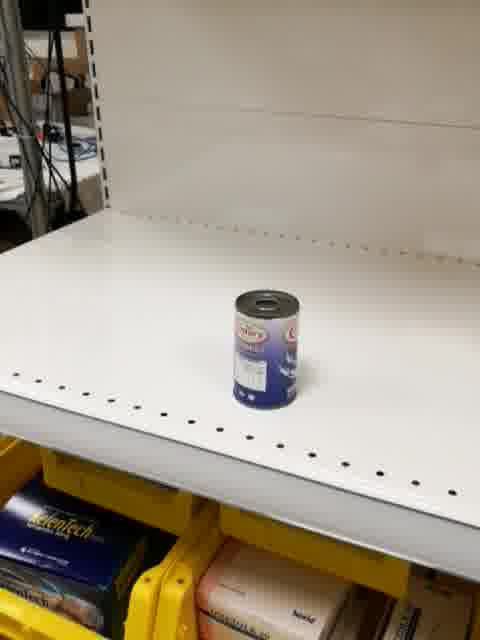sardine: (231, 288, 301, 411)
